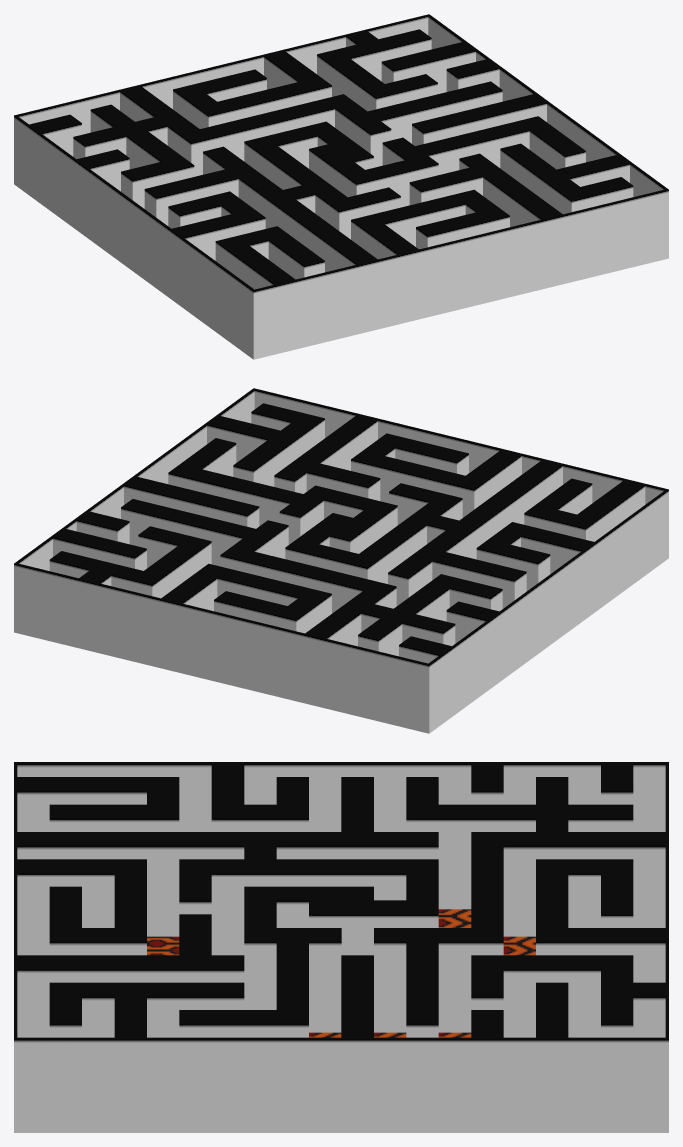
Rendered from Level02.fbx.
The picture shows the model from 3 angles, top to bottom: view 1: azimuth 30°, elevation 25°; view 2: azimuth 150°, elevation 25°; view 3: azimuth 270°, elevation 25°; orthographic projection. The views are drawn at different scales.
Visible parts, largest first — view 1: Union_1; view 2: Union_1; view 3: Union_1.
Part boxes in pixels (x1,y1,x2,y2): Union_1: (14,14,668,359); Union_1: (14,388,668,733); Union_1: (14,762,668,1132).
Bounding box in the file's own units: 202 × 32 × 202.
